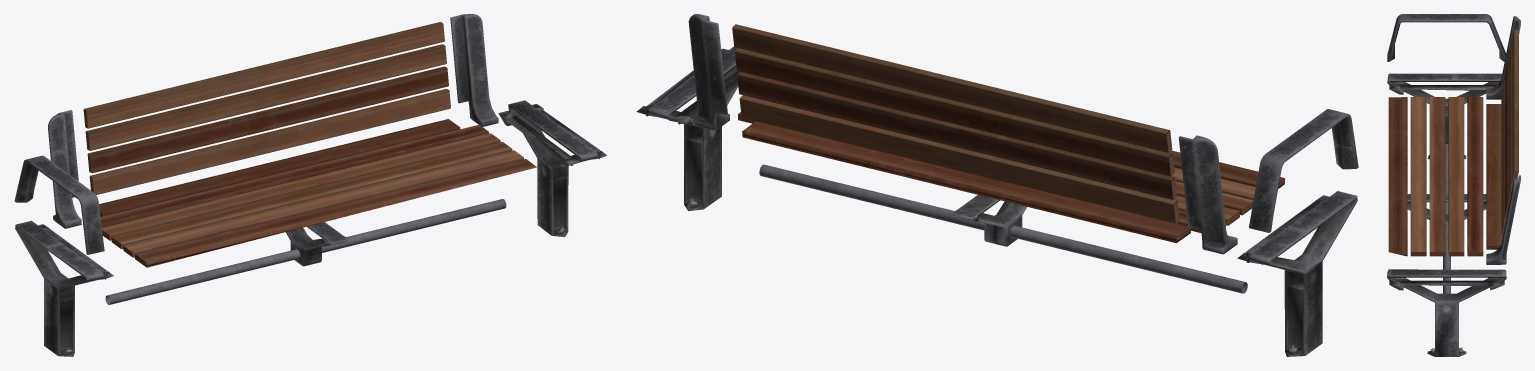
The model's file is banc_modulaire_lod1.glb.
3 renders of one model, left to right at view 1: azimuth 30°, elevation 25°; view 2: azimuth 150°, elevation 25°; view 3: azimuth 270°, elevation 25°, orthographic. The views are drawn at different scales.
Parts seen in each view (by area): view 1: seat, legs_double, crossbar, back_support_r; view 2: seat, legs_double, crossbar, back_support_r; view 3: seat, legs_double, crossbar, back_support_r.
Part boxes in pixels (x1,y1,x2,y2): seat: (83,22,536,267); legs_double: (15,100,606,356); crossbar: (14,14,506,304); back_support_r: (48,110,81,228); seat: (732,24,1284,243); legs_double: (636,46,1357,356); crossbar: (688,14,1358,293); back_support_r: (1178,135,1237,254); seat: (1388,29,1518,256); legs_double: (1387,73,1506,356); crossbar: (1387,14,1520,293); back_support_r: (1486,16,1520,99).
Size of the model in its own units: 2.45 by 0.8669 by 0.6704.
3 materials, 3 textured.
